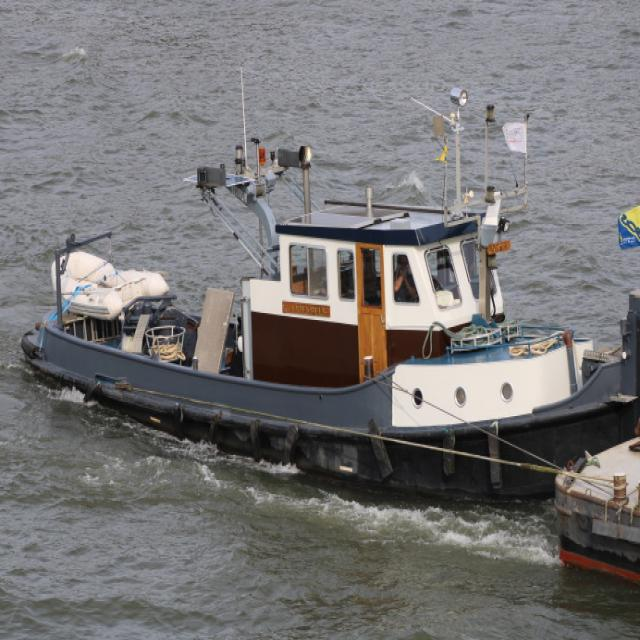tugboat: (17, 58, 640, 525)
